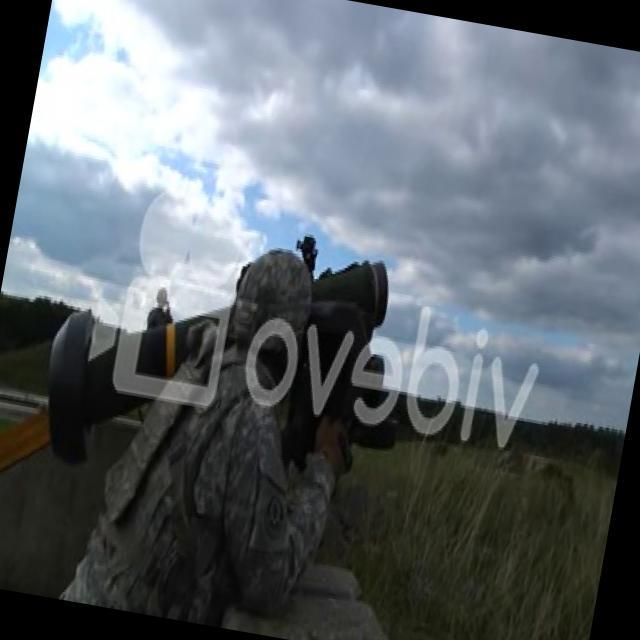rocket: (36, 212, 389, 509)
